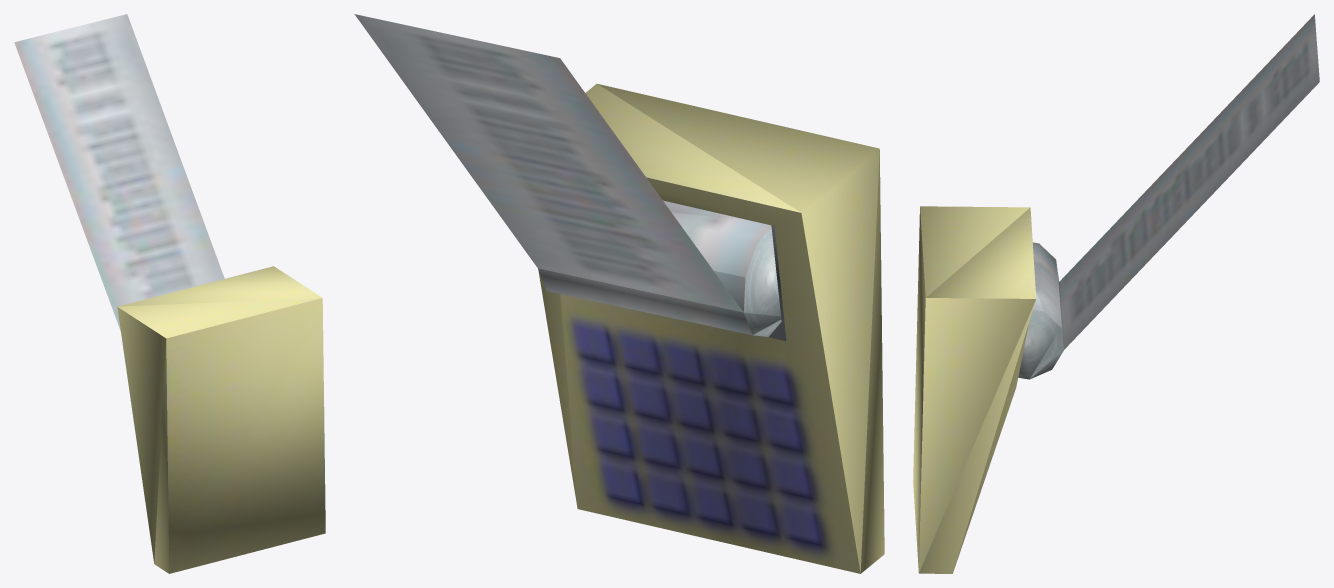
Rendered from calculator.glb.
The picture shows the model from 3 angles, left to right: view 1: azimuth 30°, elevation 25°; view 2: azimuth 150°, elevation 25°; view 3: azimuth 270°, elevation 25°; orthographic projection. The views are drawn at different scales.
Visible parts, largest first — view 1: calculator; view 2: calculator; view 3: calculator.
Boxes of the visible parts, bbox=[...] form: calculator: bbox=[14, 14, 325, 573]; calculator: bbox=[354, 14, 884, 573]; calculator: bbox=[913, 14, 1319, 573].
Size of the model in its own units: 0.7242 by 1.73 by 1.34.
Materials: 4 (4 with a texture image).
